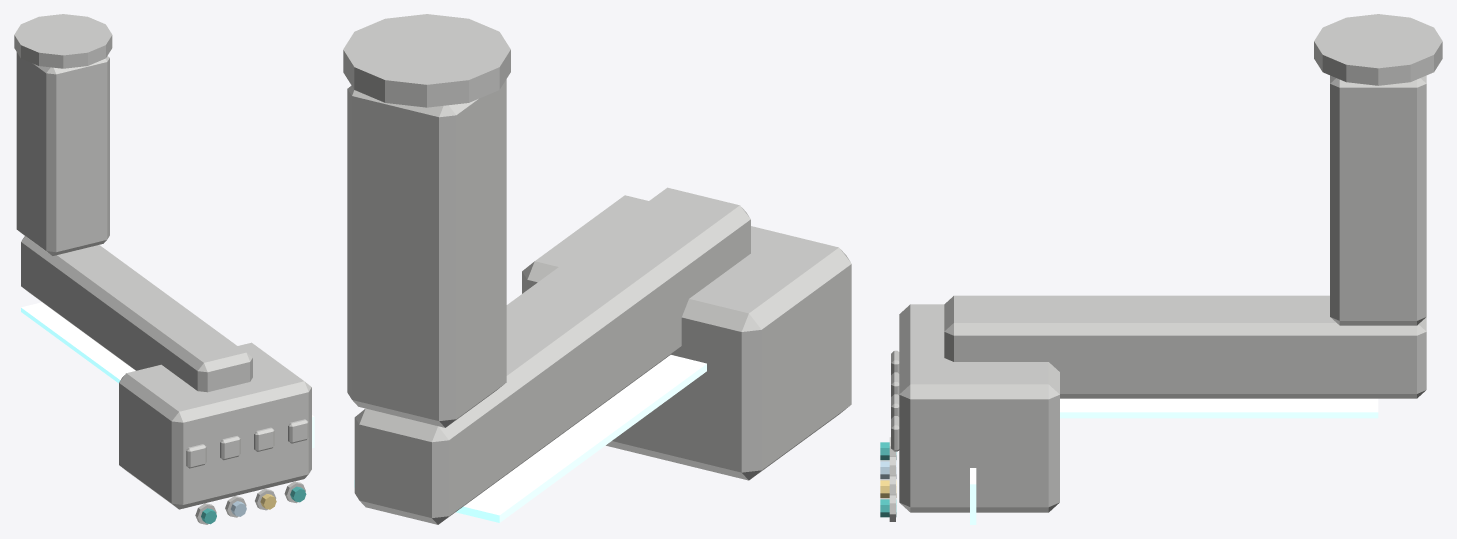
3 views of the same model, side by side, from view 1: azimuth 30°, elevation 25°; view 2: azimuth 150°, elevation 25°; view 3: azimuth 270°, elevation 25° (orthographic). The views are drawn at different scales.
Visible parts, largest first — view 1: theatre-light-column; view 2: theatre-light-column; view 3: theatre-light-column.
Part boxes in pixels (box(x1,y1,x2,y2)): theatre-light-column: box(14, 14, 314, 524); theatre-light-column: box(343, 14, 851, 524); theatre-light-column: box(880, 14, 1442, 524).
Size of the model in its own units: 0.78 by 1.55 by 1.75.
